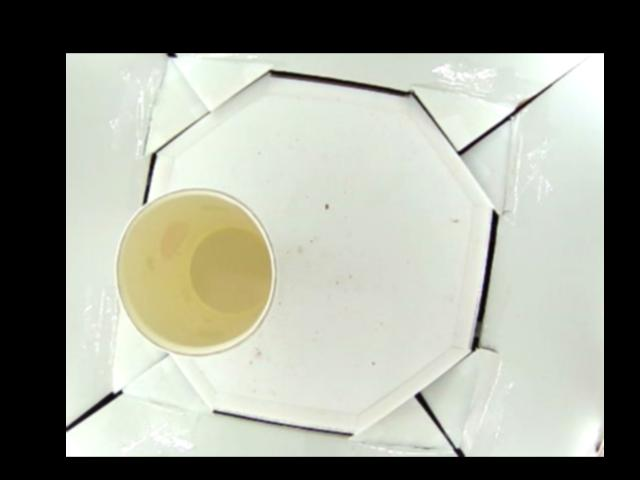Cup: (113, 187, 277, 353)
